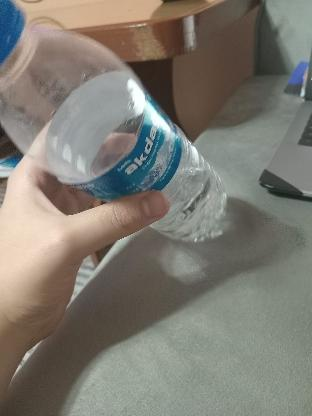Plastic Bottle: (1, 1, 230, 248)
